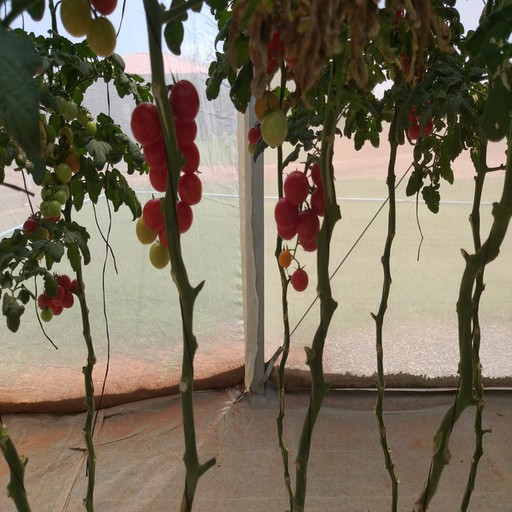green tomato bunch: (33, 87, 94, 218), (57, 1, 117, 56)
red tomato bunch: (139, 79, 200, 247), (273, 159, 333, 252), (248, 10, 315, 83), (401, 40, 433, 140), (40, 275, 81, 318)
